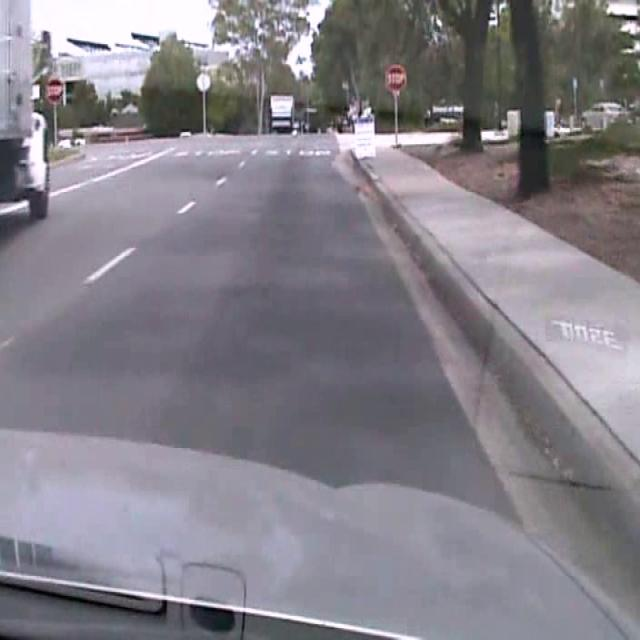stop_sign: (384, 63, 406, 93)
